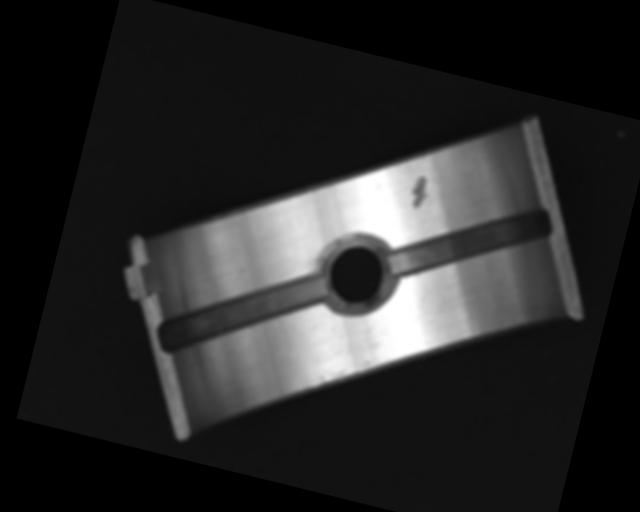bruise: (407, 172, 433, 211)
gap: (156, 240, 329, 384), (386, 174, 555, 306)
hole: (315, 225, 399, 319)
